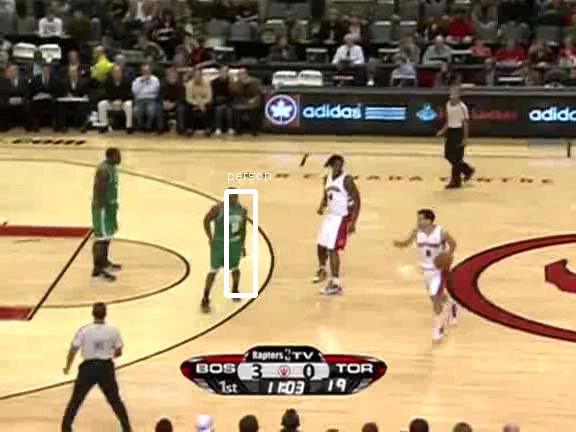person: (213, 199, 247, 280), (212, 199, 246, 280), (214, 199, 248, 280), (213, 198, 247, 279), (213, 200, 247, 281)
target_negative: (131, 128, 456, 253), (178, 218, 338, 247), (457, 64, 517, 118), (463, 30, 471, 283), (66, 207, 284, 215), (441, 198, 492, 211)
